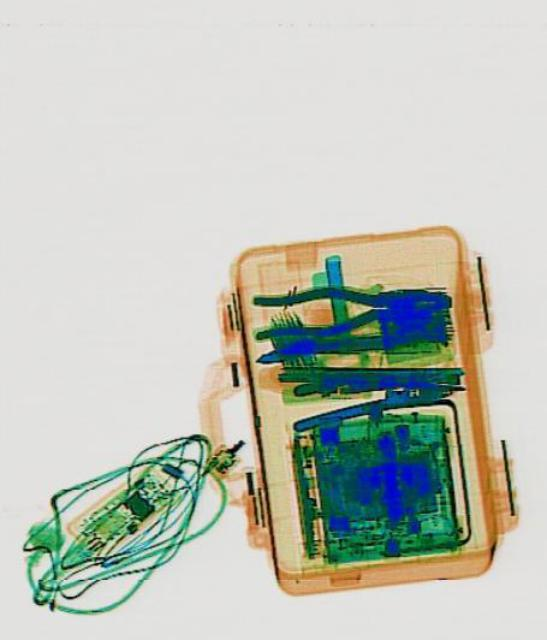Pliers: (250, 278, 453, 340)
